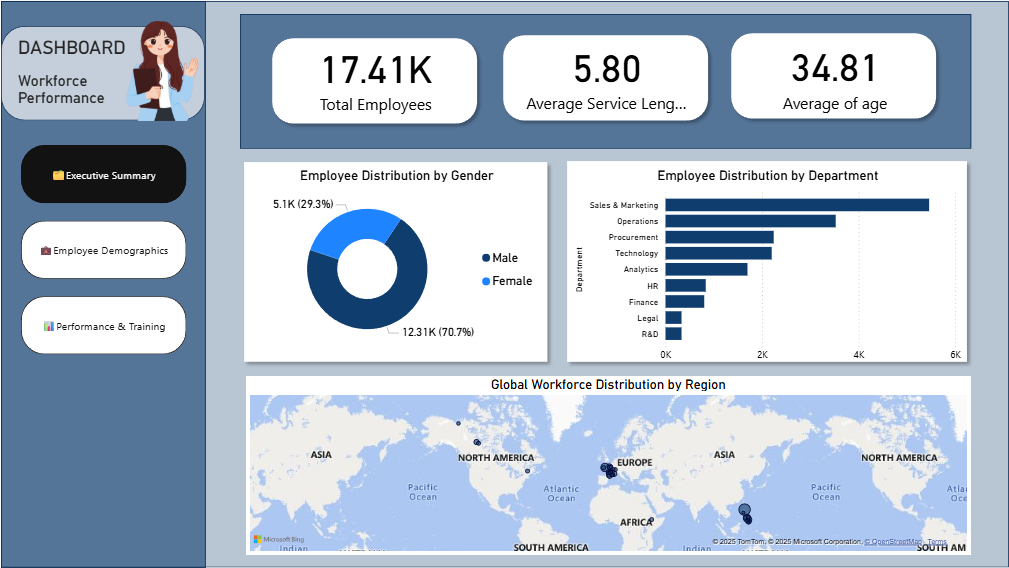

Layout of this report page (visuals, bound fields, positions):
{"tool":"powerbi","page":{"name":"🗂️Executive Summary","canvas":[1280,720],"ordinal":0},"visuals":[{"type":"shape","box":[0,0,1280,719.4],"z":0},{"type":"shape","box":[302.9,16.7,928.6,171.4],"z":1000},{"type":"map","fields":{"Size":["CountNonNull(Cleaned.employee_id)"],"Category":["Cleaned.region"]},"box":[311.4,475.7,920,227.1],"z":2000},{"type":"shape","box":[0,0,260,720],"z":3000},{"type":"pageNavigator","box":[25,183.3,210,266.7],"z":4000},{"type":"shape","box":[335.2,38,278.3,126.7],"z":5000},{"type":"card","fields":{"Values":["Count(Cleaned.employee_id)"]},"box":[365.2,44.7,220,100],"z":6000},{"type":"shape","box":[628.6,34.7,278.3,126.7],"z":7000},{"type":"card","fields":{"Values":["Avg(Cleaned.length_of_service)"]},"box":[660.2,36.4,216.7,113.3],"z":8000},{"type":"shape","box":[918.6,31.4,278.3,126.7],"z":9000},{"type":"card","fields":{"Values":["Avg(Cleaned.age)"]},"box":[956.9,33,203.3,120],"z":10000},{"type":"shape","box":[300,196.1,402.9,271.4],"z":11000},{"type":"donutChart","fields":{"Category":["Cleaned.gender"],"Y":["CountNonNull(Cleaned.employee_id)"]},"box":[315.7,210.4,372.9,240],"z":12000},{"type":"shape","box":[710,194.7,525.7,272.9],"z":13000},{"type":"clusteredBarChart","fields":{"Category":["Cleaned.department"],"Y":["CountNonNull(Cleaned.employee_id)"]},"box":[724.3,210.4,500,257.1],"z":14000},{"type":"shape","box":[0,32.2,258.9,120],"z":15000},{"type":"image","box":[122.9,5.7,158.6,151.4],"z":16000},{"type":"textbox","box":[16.7,40,184.4,106.7],"z":17000}]}

Visuals, with their boxes in screenshot pixels (x1, y1, x2, y2), scaled from the page's 1280x720 canvas onto the 1009x568 screenshot:
shape: 0/0/1008/567
shape: 239/13/971/148
map - CountNonNull(Cleaned.employee_id) x Cleaned.region: 245/375/971/554
shape: 0/0/205/567
pageNavigator: 20/145/185/355
shape: 264/30/484/130
card - Count(Cleaned.employee_id): 288/35/461/114
shape: 496/27/715/127
card - Avg(Cleaned.length_of_service): 520/29/691/118
shape: 724/25/943/125
card - Avg(Cleaned.age): 754/26/915/121
shape: 236/155/554/369
donutChart - Cleaned.gender x CountNonNull(Cleaned.employee_id): 249/166/543/355
shape: 560/154/974/369
clusteredBarChart - Cleaned.department x CountNonNull(Cleaned.employee_id): 571/166/965/369
shape: 0/25/204/120
image: 97/4/222/124
textbox: 13/32/159/116
